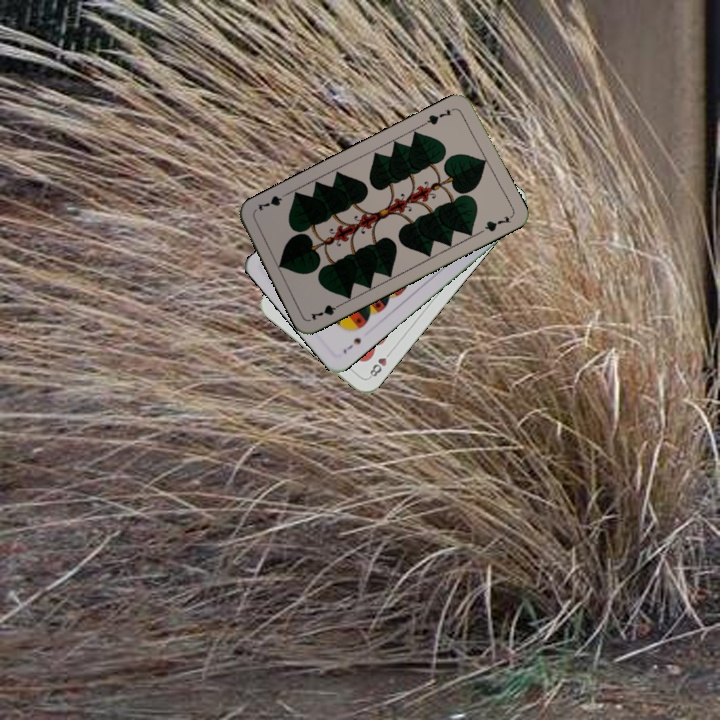G7: (306, 299, 346, 323), (420, 105, 454, 128)
H8: (365, 346, 395, 381)
S7: (339, 334, 364, 357)
